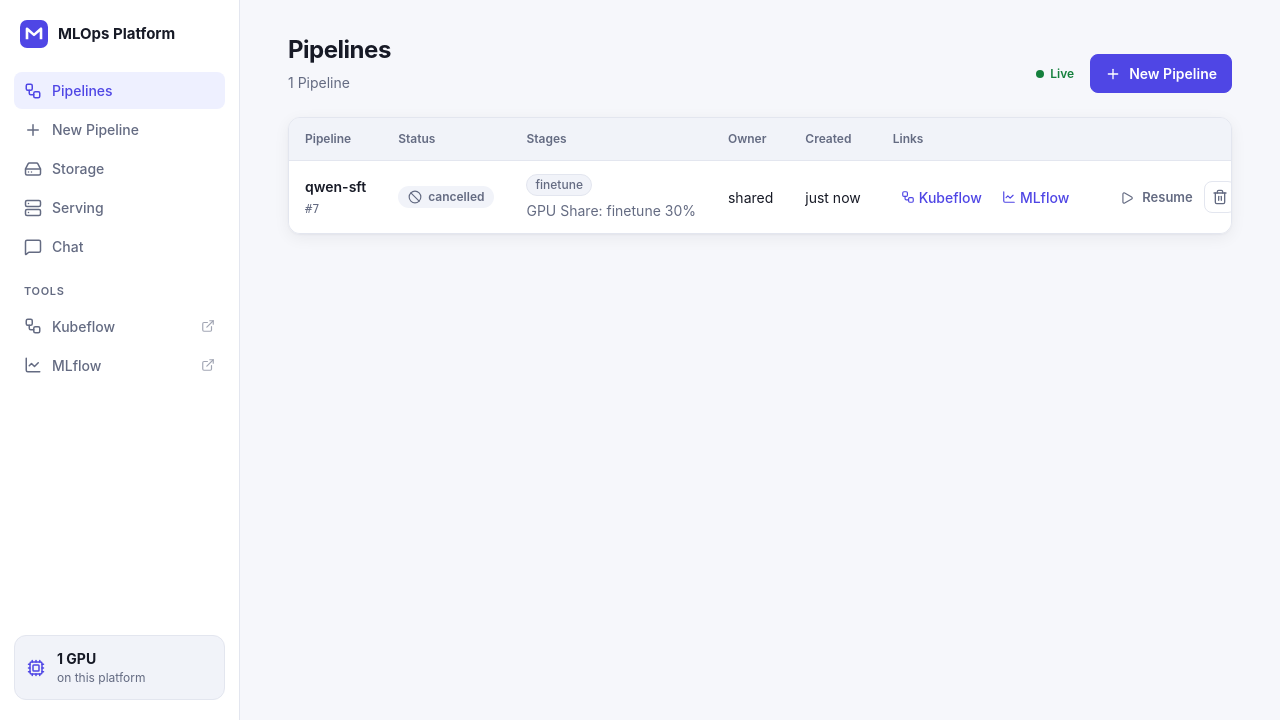
Test case: the Resume fields say what they mean and how full the fullest machine is
The image size is (1280, 720).
Click the button "Resume" at (1157, 198), box [1109,183,1204,213]
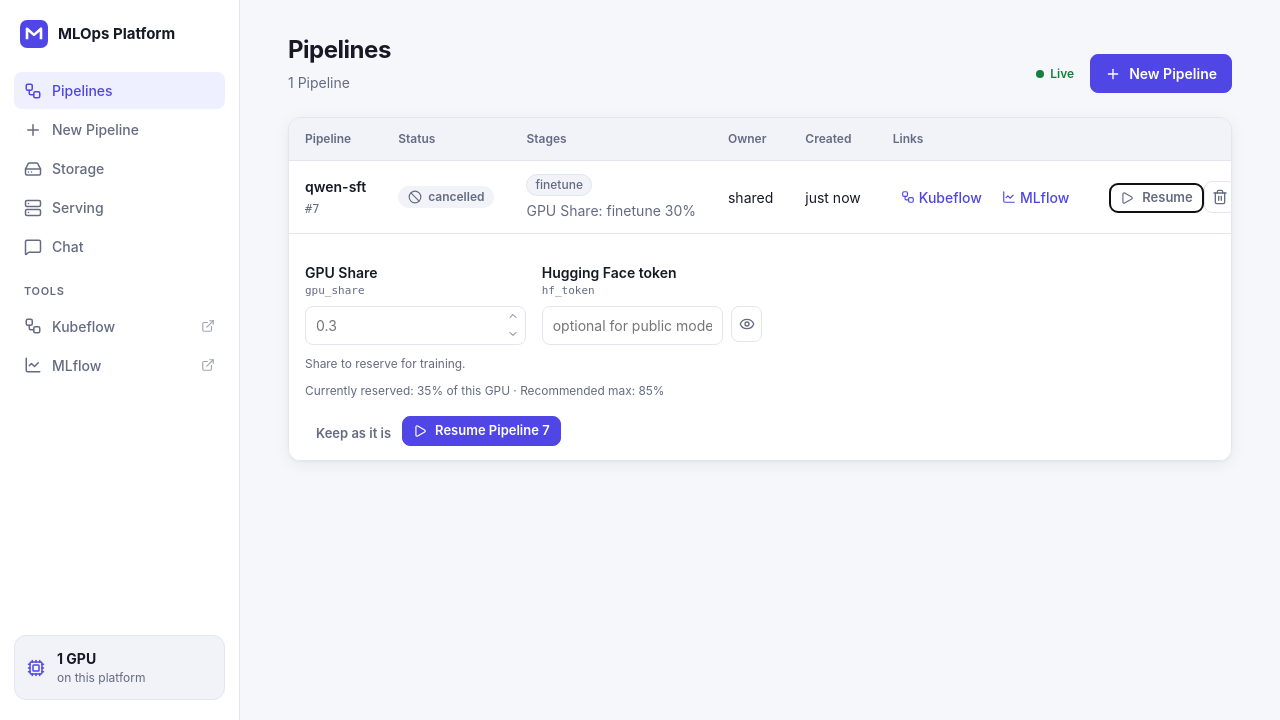
Expected: the text "Share to reserve for training." is shown, [305,356,466,370]
Expected: the text "Currently reserved: 35% of this GPU · Recommended max: 85%" is shown, [305,382,526,400]
